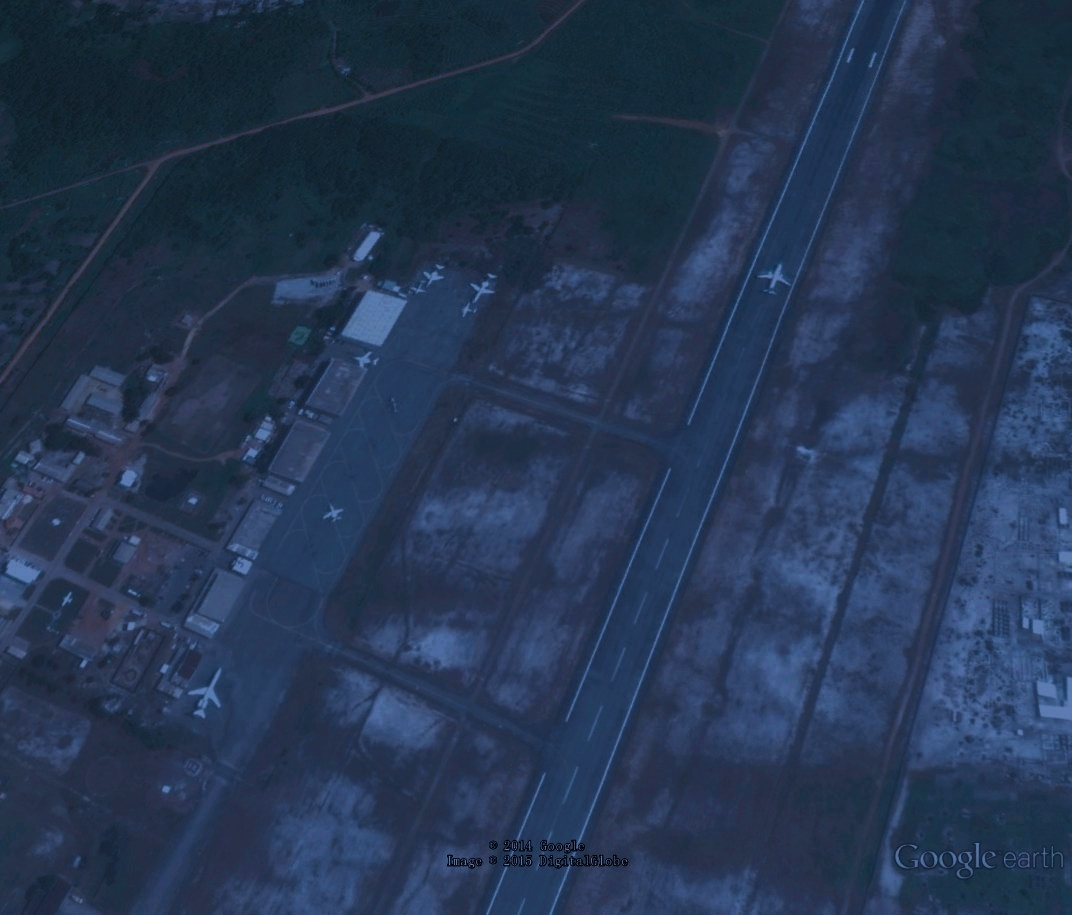aircraft: (187, 661, 232, 723), (754, 259, 796, 303), (467, 268, 500, 304), (322, 498, 350, 528), (349, 349, 383, 372), (422, 259, 448, 289), (406, 277, 433, 300), (457, 301, 481, 321)
